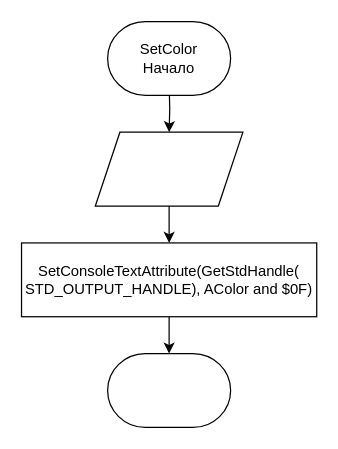
The diagram is 338 pixels wide and 449 high, and some of its shapes have lost their labels. Here are the shapes that lost their labels. From the top down, the centre of each, then its label:
point 168,168: Ввод AColor
point 168,389: Конец
